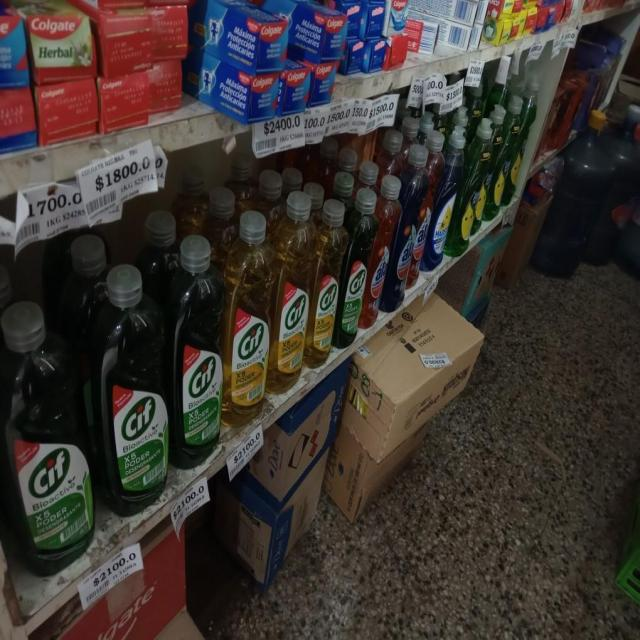cif_conc_bot_amarilla: (225, 208, 271, 427), (272, 189, 310, 390), (310, 197, 340, 367)
cif_conc_botella_verde: (1, 308, 92, 575), (95, 266, 169, 514), (172, 234, 222, 467), (340, 190, 368, 348)
magistral_con_azul: (432, 129, 458, 269)
